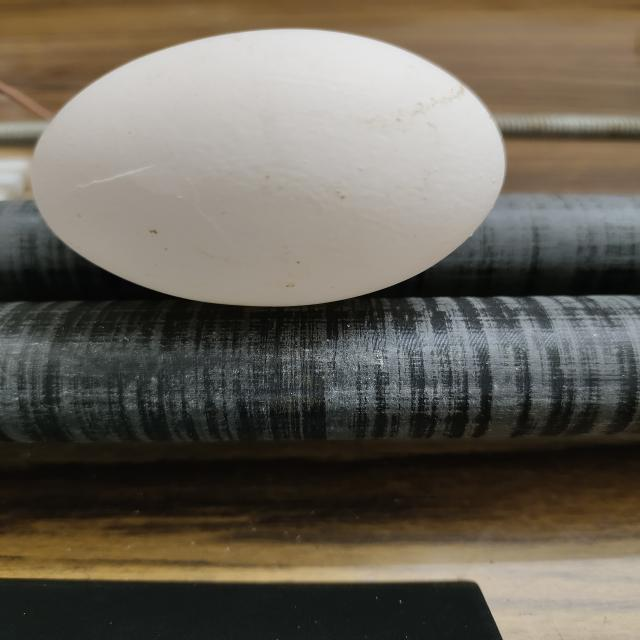Eggs: (31, 27, 508, 307)
